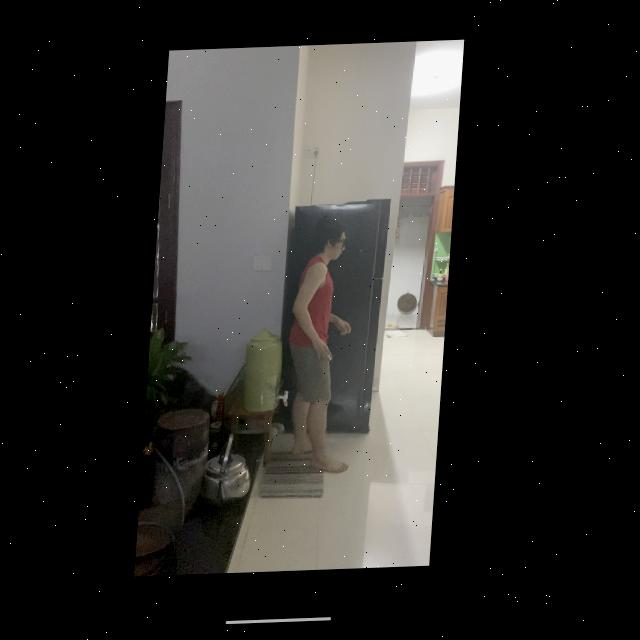cigarette: (331, 357, 336, 363)
